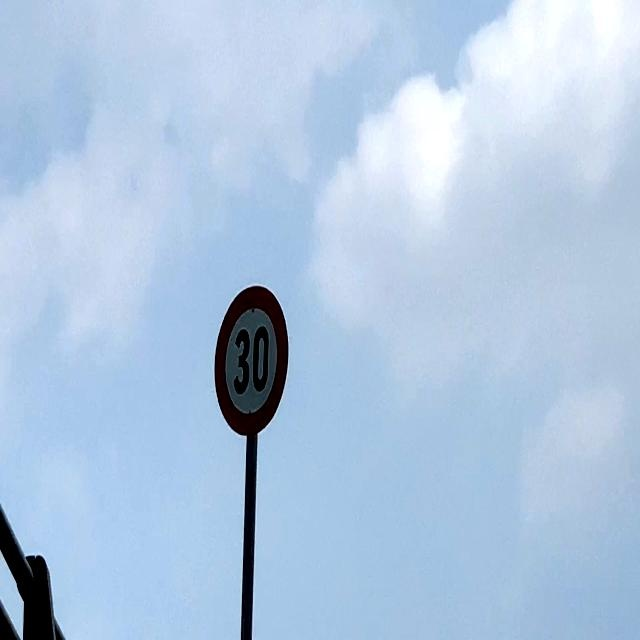bien_cam: (214, 282, 288, 441)
